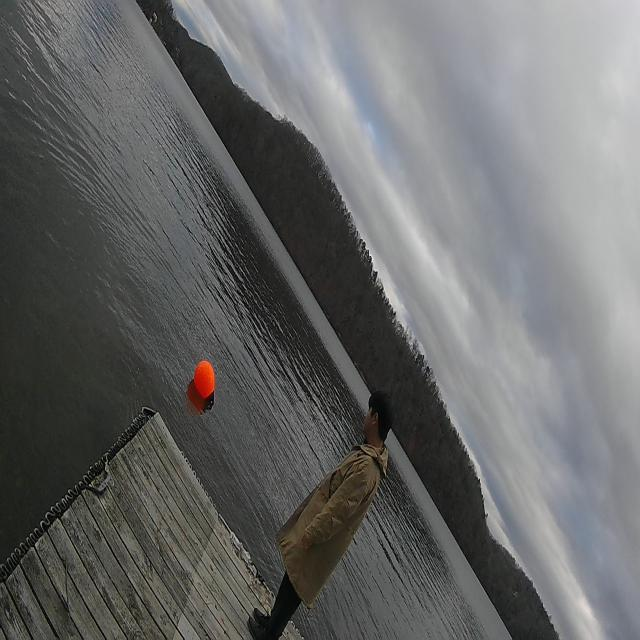Buoy: (193, 359, 216, 403)
